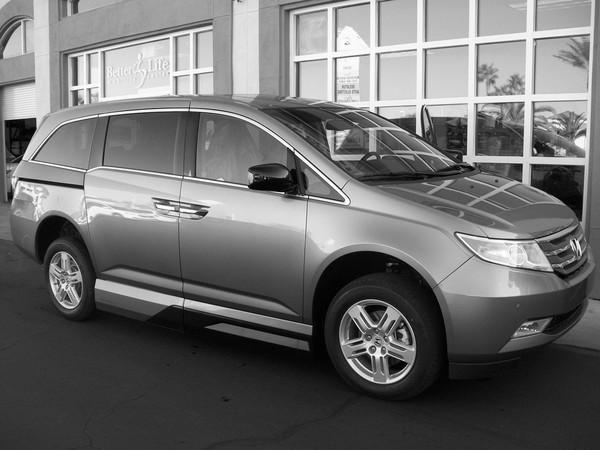car: (8, 91, 600, 408)
